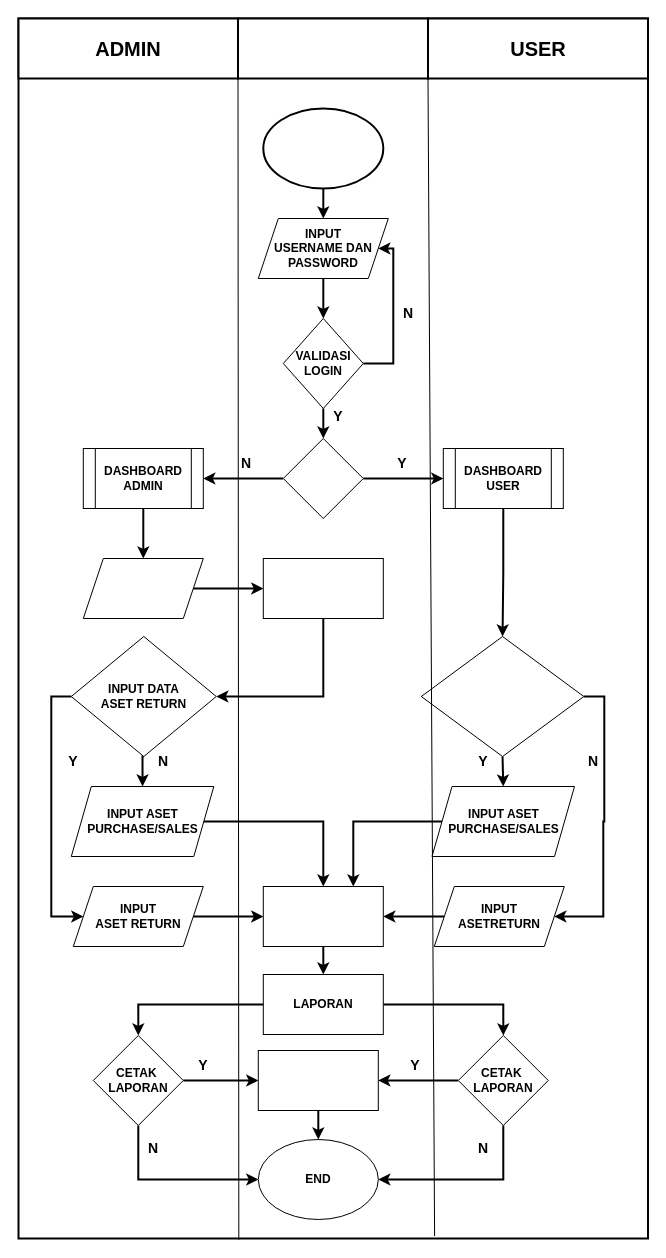
Some shapes in this 666 by 1258 pixel diagram are drawn without their labels. Each missing label, with the centre of its shape:
CETAK: (x=317, y=1080)
INPUT DATA ASET PURCHASE/SALES: (x=502, y=696)
INPUT DATA USER: (x=142, y=588)
OLAH DATA PRODUK: (x=322, y=916)
PROSES DATA USER: (x=322, y=588)
SISTEM: (x=332, y=48)
START: (x=323, y=148)
USER/ADMIN: (x=322, y=478)
